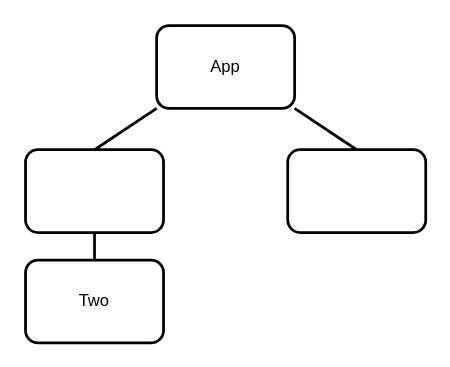
This 450x367 diagram has some shape labels left out. The shapes that lost their labels are listed below. From the top down, each one's centre as x and y in pixels, then its label:
the point at 93,190: One
the point at 356,190: Three
